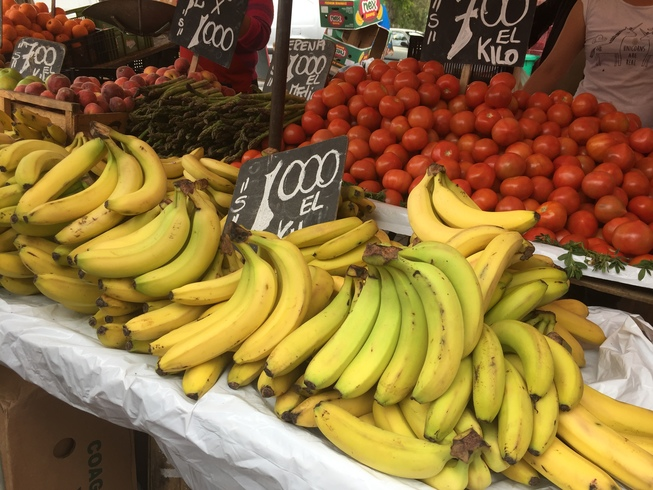precio: (217, 131, 361, 257), (416, 1, 548, 81), (166, 1, 253, 73), (259, 35, 346, 102), (5, 33, 74, 91)
